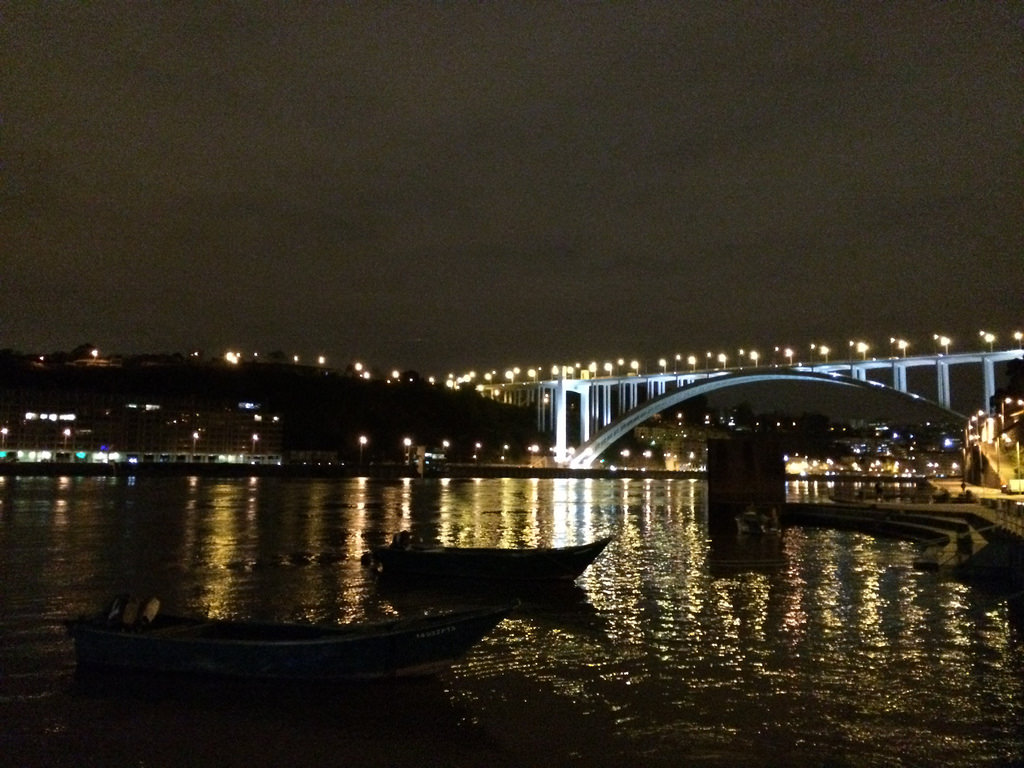arrabida: (473, 347, 1023, 468)
